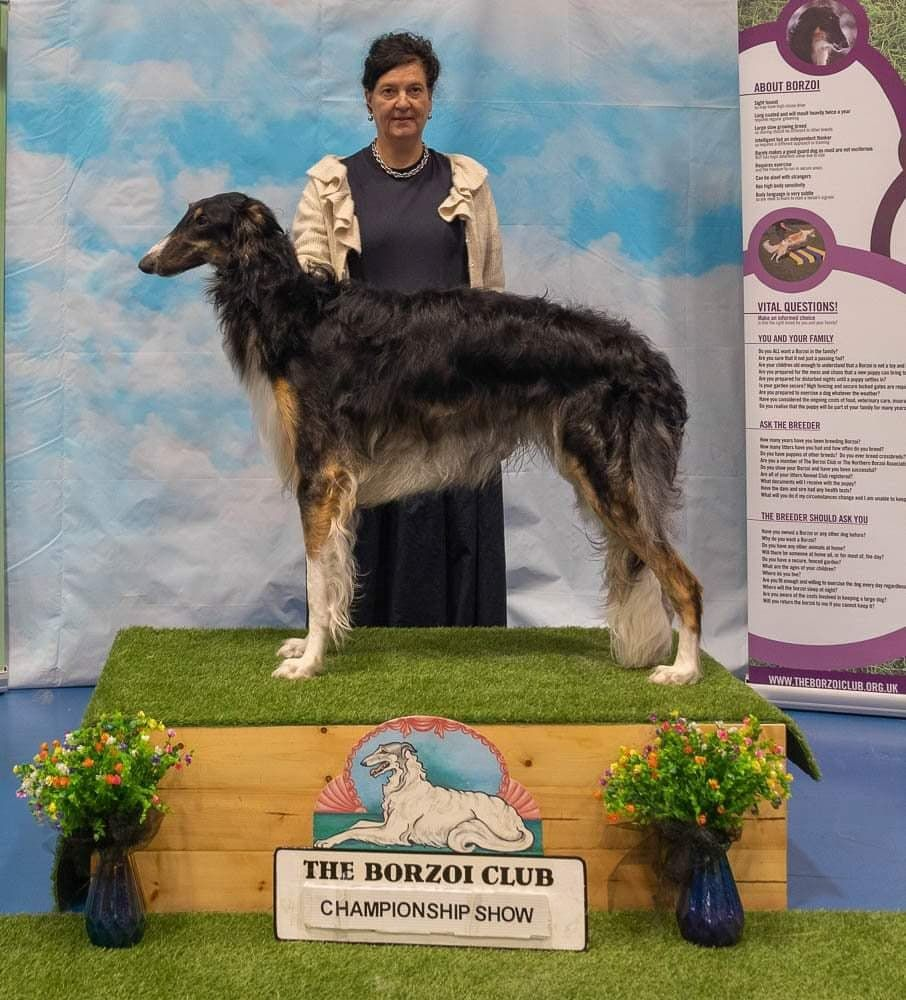borzoi: (124, 180, 713, 703)
